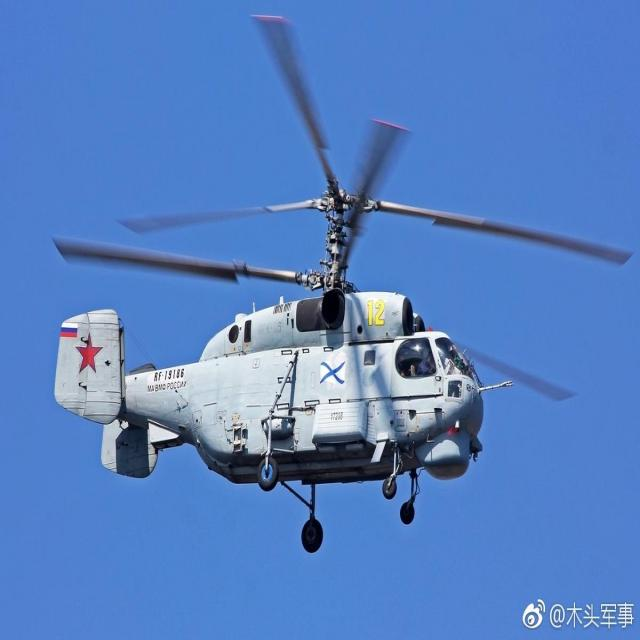MIL_HELO: (32, 9, 635, 554)
